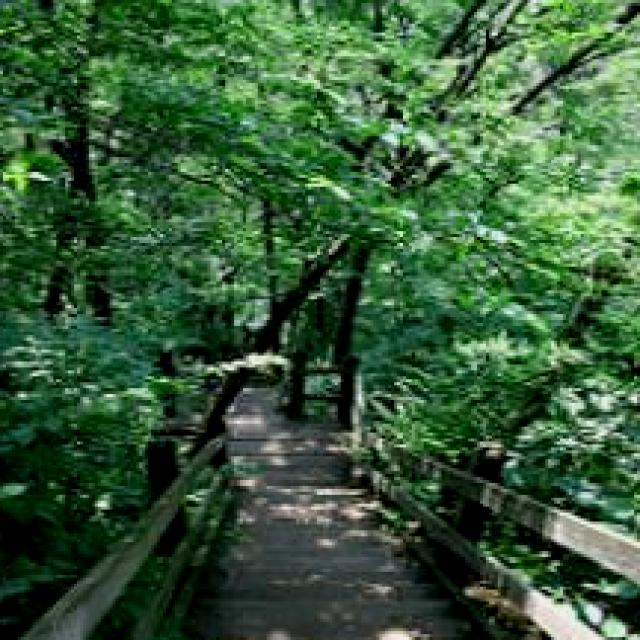upstair: (120, 404, 529, 638)
